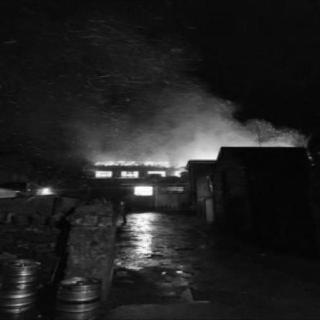Fire: (91, 126, 187, 182), (180, 133, 292, 163)
Smoke: (51, 34, 199, 153)
